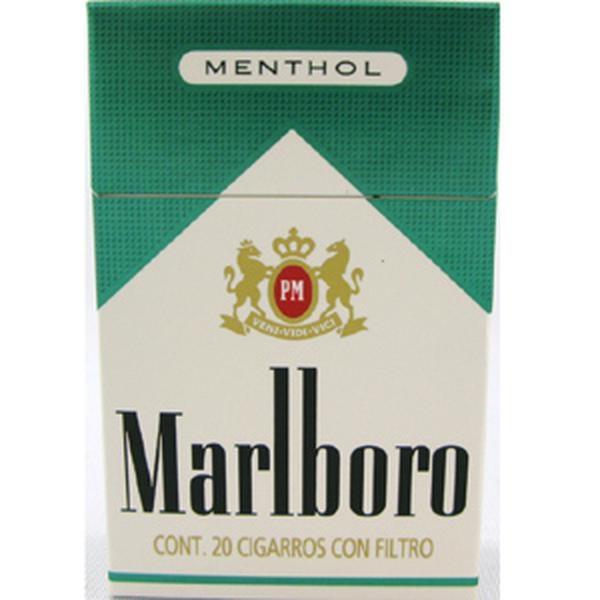marlboro_mentol: (107, 7, 490, 592)
